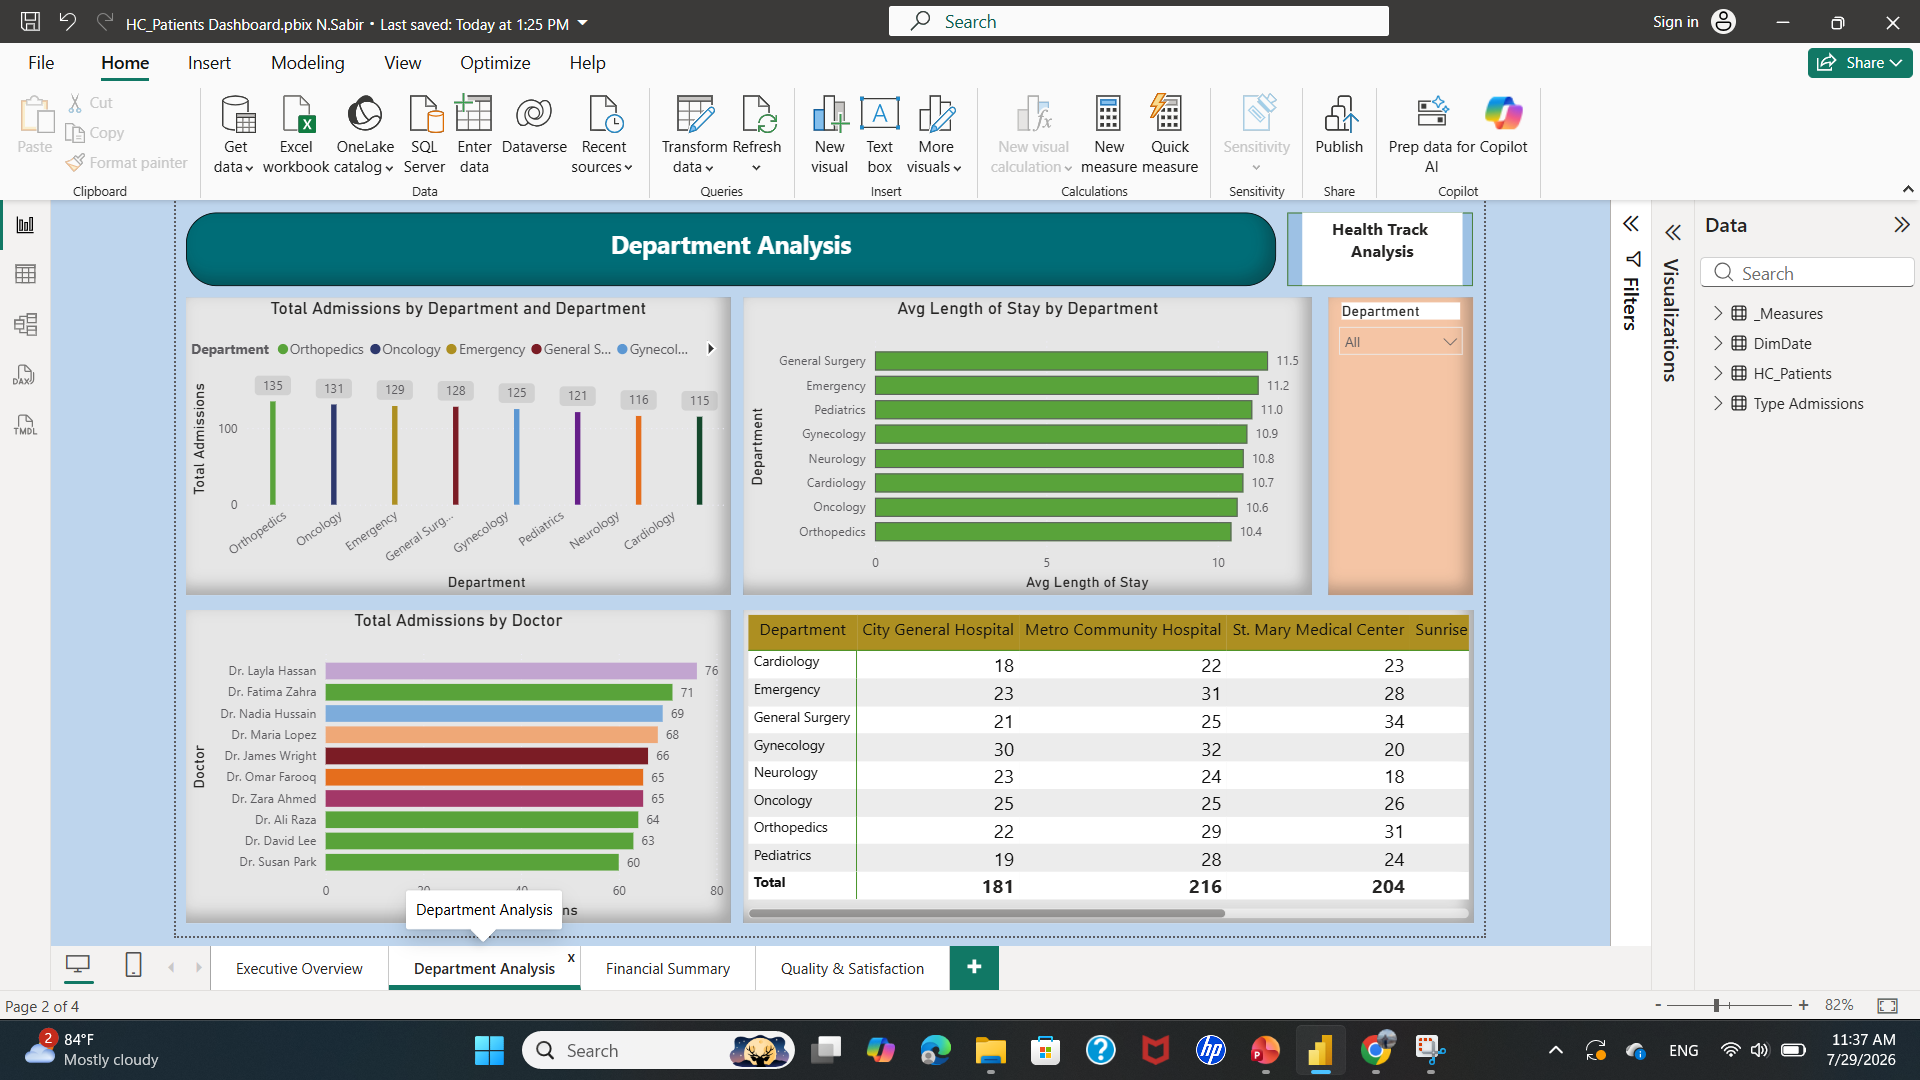

This screenshot's page, from the dashboard's own definition file:
{"tool":"powerbi","page":{"name":"Department Analysis","canvas":[1280,720],"ordinal":1},"visuals":[{"type":"textbox","box":[0,0,1280,38.9],"z":0},{"type":"shape","box":[1152.5,4.3,127.5,30.2],"z":1000},{"type":"clusteredColumnChart","title":"Admissions by Department","fields":{"Y":["_Measures.Total Admissions"],"Category":["Admissions.Department"]},"box":[10.5,119.6,600.1,283.3],"z":2000},{"type":"barChart","title":"Avg Length of Stay by Department","fields":{"Y":["_Measures.Avg Length of Stay"],"Category":["Admissions.Department"]},"box":[10.5,412.3,600.1,307.4],"z":3000},{"type":"clusteredBarChart","title":"Total Admissions by Doctor","fields":{"Y":["_Measures.Total Admissions"],"Category":["Admissions.Doctor"]},"box":[626.4,119.6,641,283.3],"z":4000},{"type":"pivotTable","title":"Department vs Hospital","fields":{"Rows":["Admissions.Department"],"Columns":["Admissions.Hospital"],"Values":["_Measures.Total Admissions"]},"box":[626.4,412.3,641,307.4],"z":5000},{"type":"slicer","fields":{"Values":["Admissions.Department"]},"box":[989.4,38.8,278,66.1],"z":6000}]}

Visuals, with their boxes on the page's 1280x720 design canvas (x1, y1, x2, y2). These are canvas units, not pixel positions in the 1920x1080 screenshot, which may show the page scaled, cropped or inside an application window:
textbox: left=0, top=0, right=1280, bottom=39
shape: left=1152, top=4, right=1280, bottom=34
"Admissions by Department" clusteredColumnChart: left=10, top=120, right=611, bottom=403
"Avg Length of Stay by Department" barChart: left=10, top=412, right=611, bottom=720
"Total Admissions by Doctor" clusteredBarChart: left=626, top=120, right=1267, bottom=403
"Department vs Hospital" pivotTable: left=626, top=412, right=1267, bottom=720
slicer - Admissions.Department: left=989, top=39, right=1267, bottom=105
